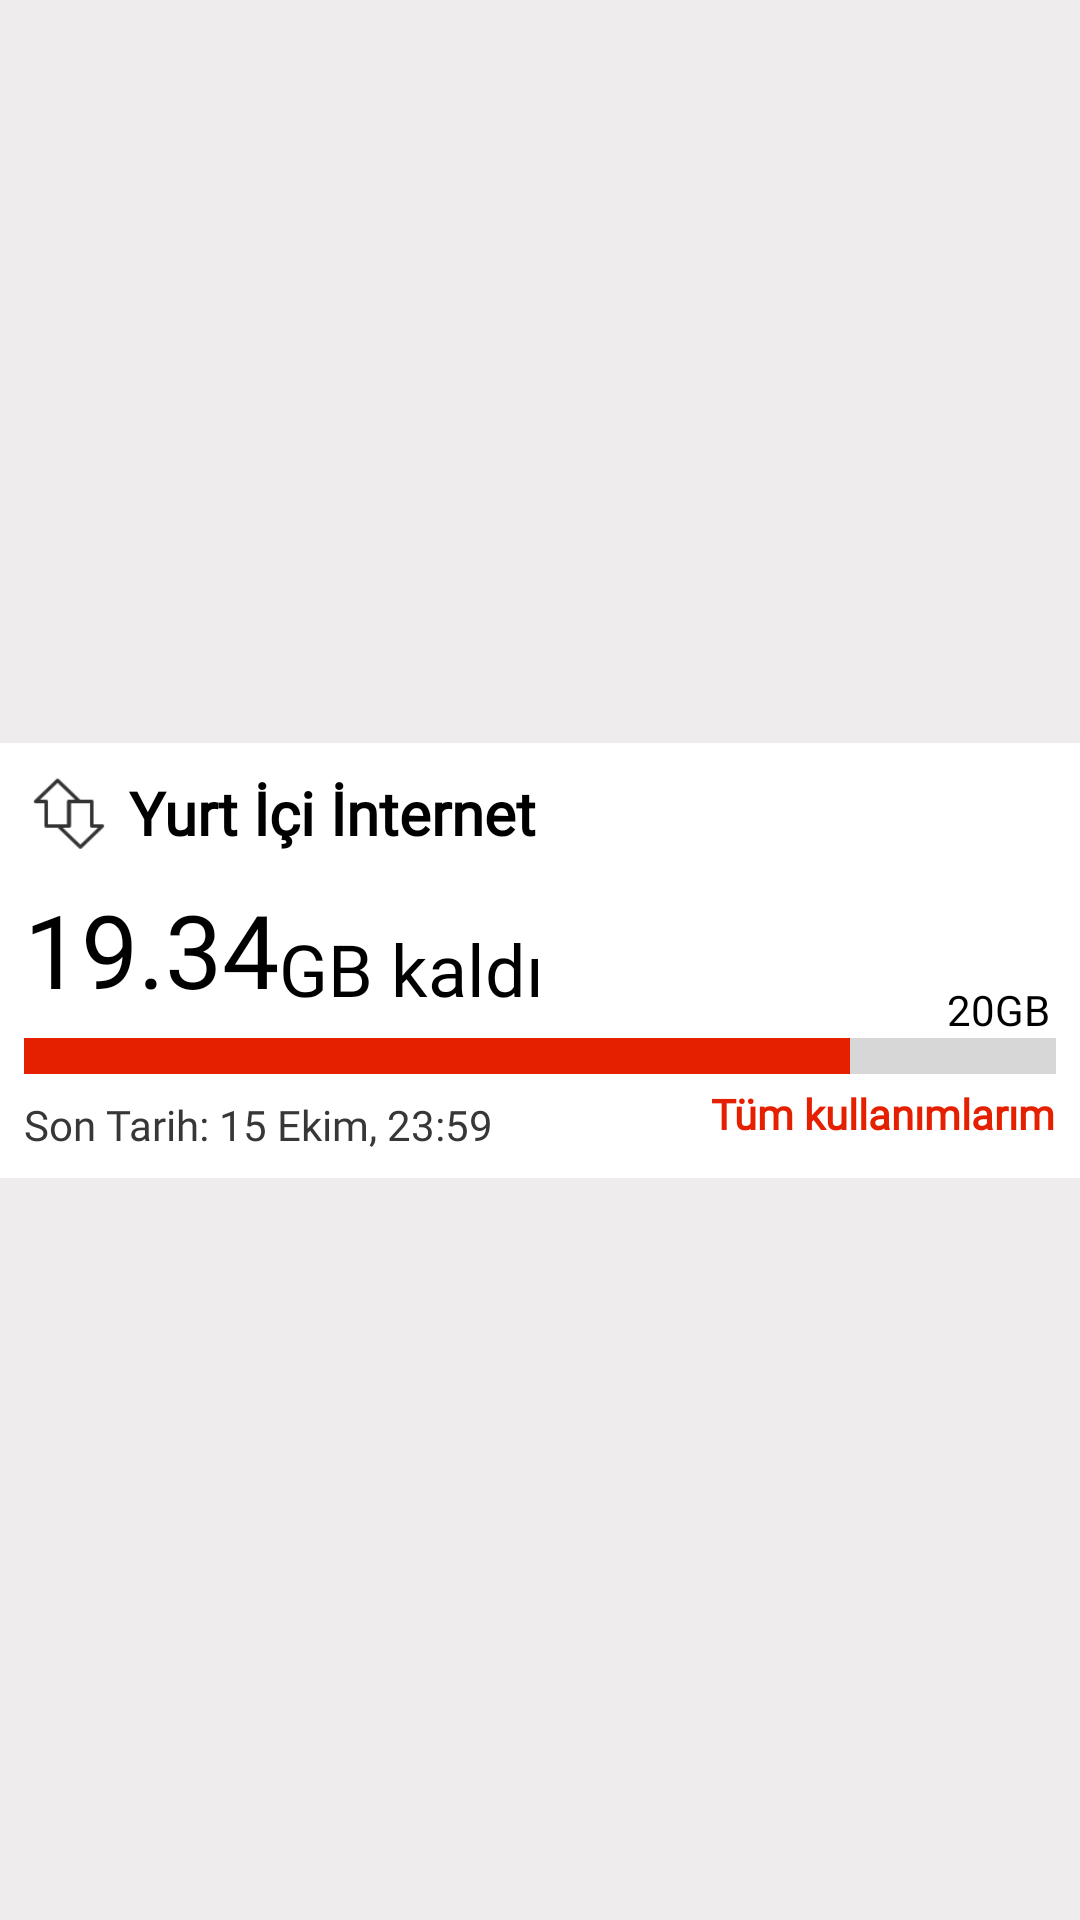

Icons on this 1080 x 1920 Android screen, each with its box as (x1, y1, x2, y2):
kullanimlarimic: (33, 778, 104, 849)
